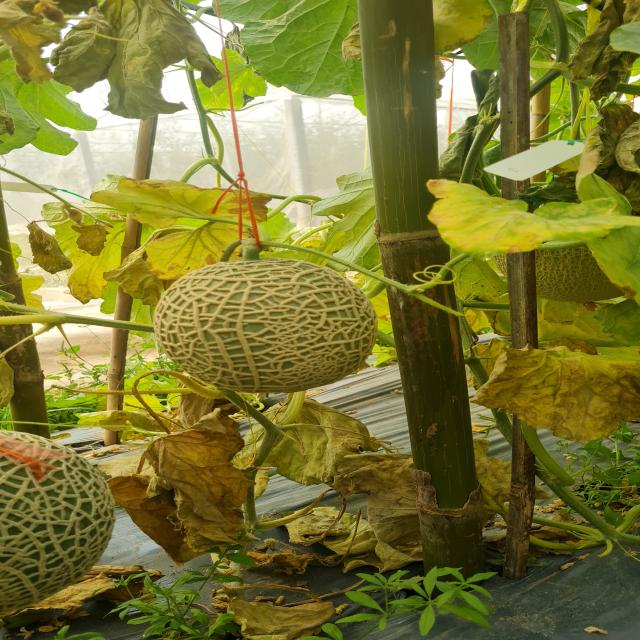melon: (153, 259, 376, 392), (0, 431, 116, 614)
